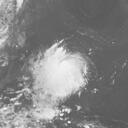cyclone: (30, 46, 88, 102)
